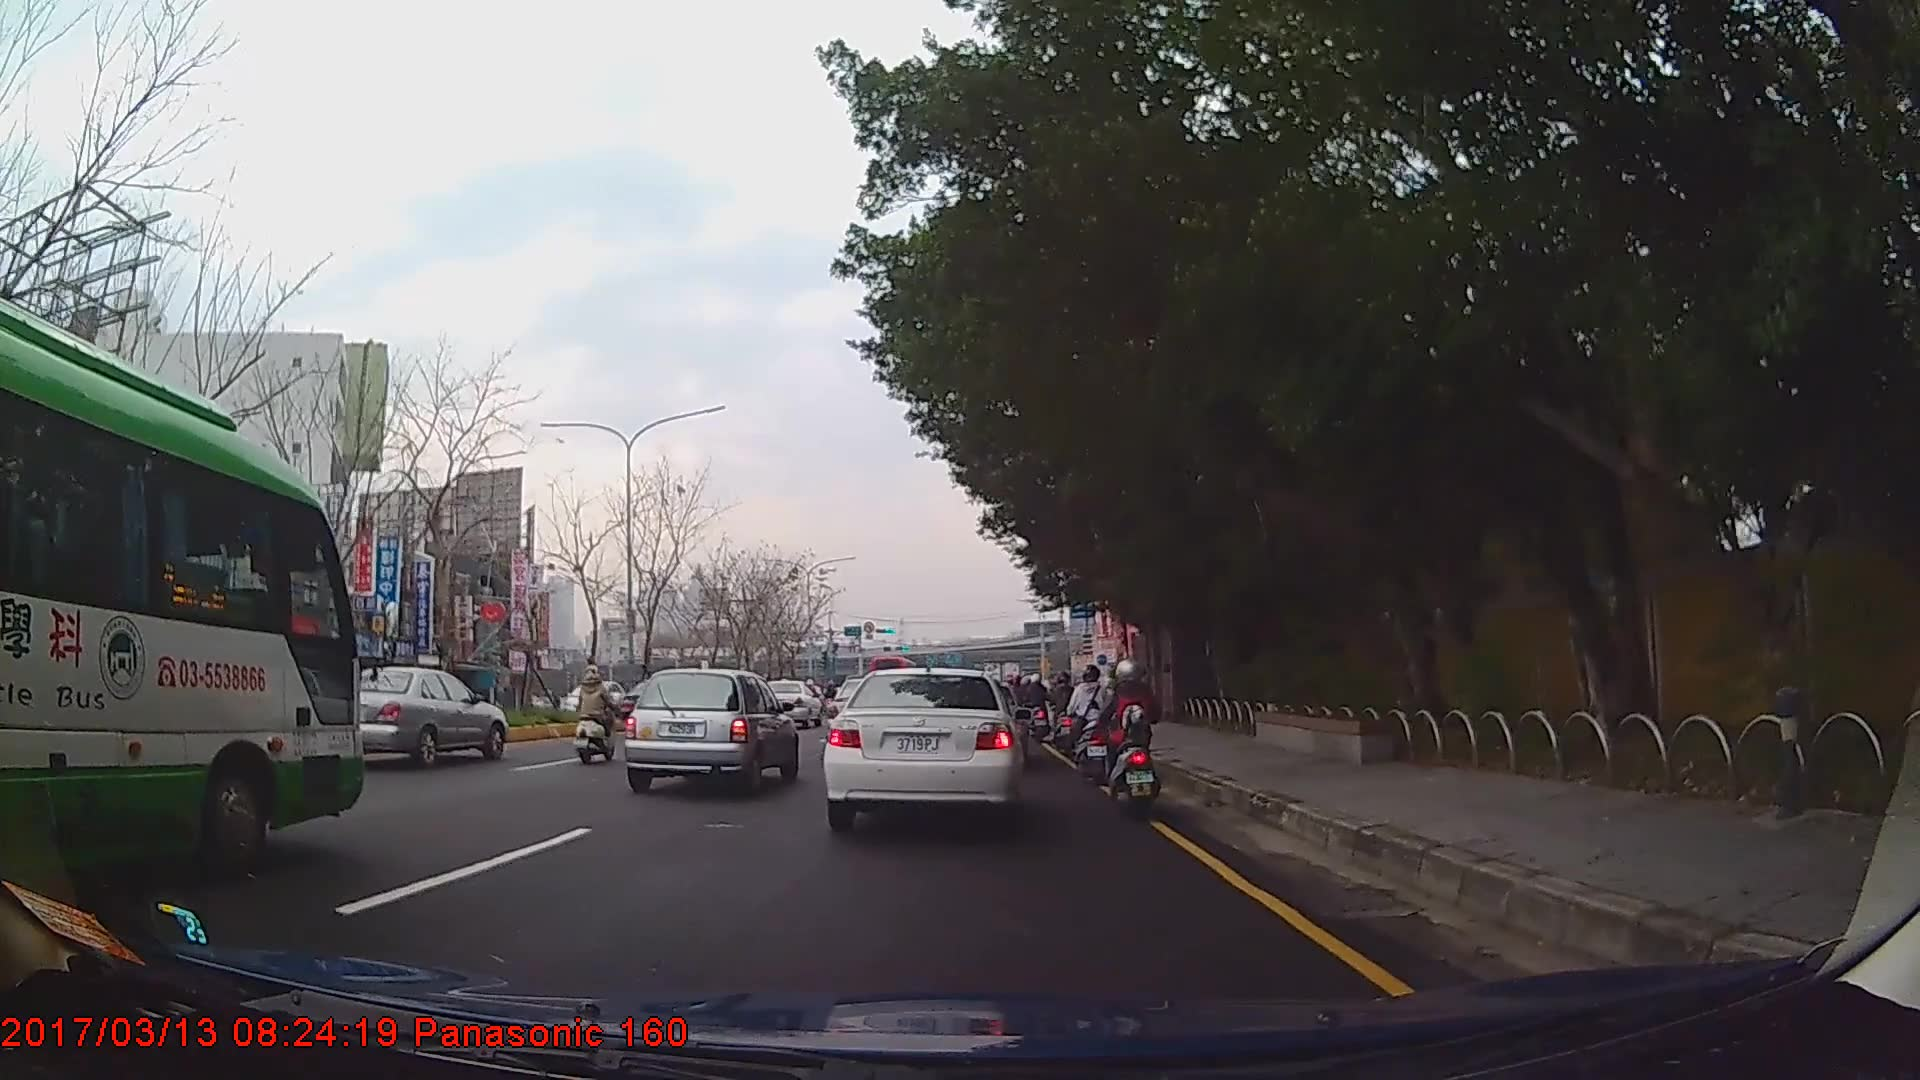rider: (1103, 661, 1163, 820), (1067, 669, 1113, 780), (582, 670, 623, 769), (1049, 673, 1077, 741)
vehicle: (0, 295, 361, 887), (820, 669, 1023, 838), (623, 667, 797, 794), (338, 667, 508, 767), (763, 677, 819, 725)
